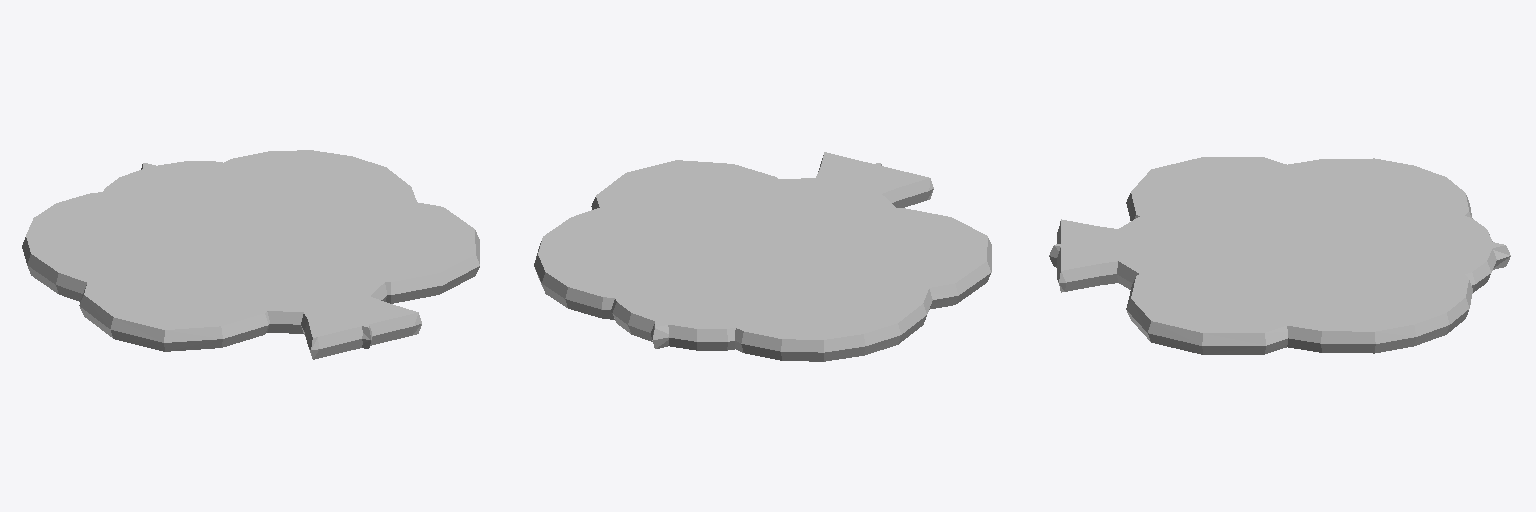
Rendered from cardSuit.obj.
The picture shows the model from 3 angles: view 1: azimuth 30°, elevation 25°; view 2: azimuth 150°, elevation 25°; view 3: azimuth 270°, elevation 25°; orthographic projection.
Parts seen in each view (by area): view 1: club, heart, spade, diamond; view 2: heart, club, spade, diamond; view 3: club, heart, spade, diamond.
Boxes of the visible parts, box(x1,y1,x2,y2) form: club: box(79, 161, 479, 351); heart: box(22, 150, 420, 333); spade: box(90, 165, 454, 359); diamond: box(126, 163, 380, 348); heart: box(534, 177, 933, 361); club: box(591, 155, 991, 350); spade: box(594, 152, 963, 324); diamond: box(638, 163, 902, 348); club: box(1066, 157, 1496, 354); heart: box(1099, 158, 1472, 353); spade: box(1057, 164, 1488, 325); diamond: box(1049, 177, 1510, 317).
Bounding box in the file's own units: 1.78 × 0.1 × 1.93.